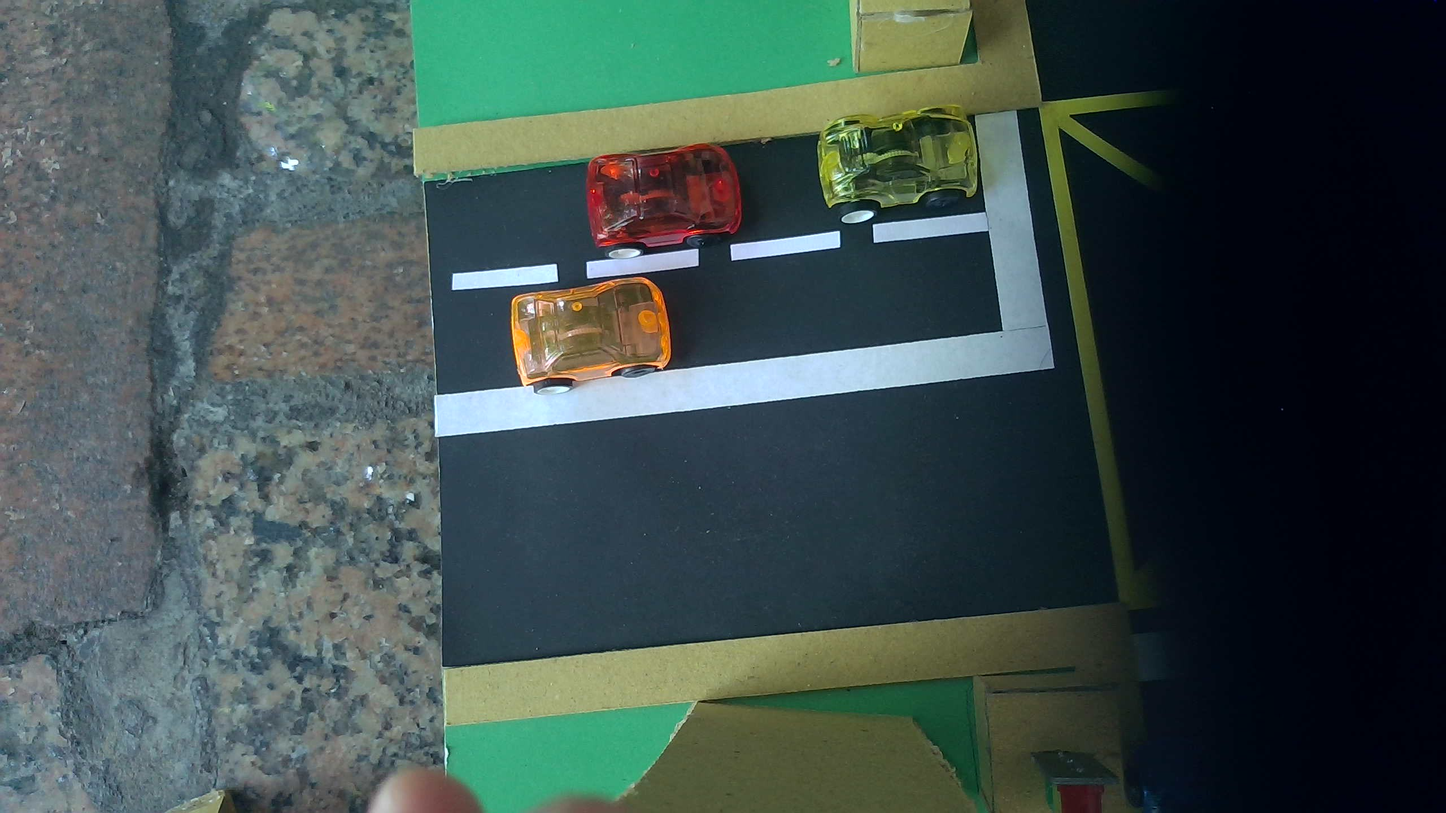Mobil kuning: (818, 106, 979, 222)
Mobil merah: (586, 143, 741, 257)
Mobil orange: (509, 277, 672, 393)
